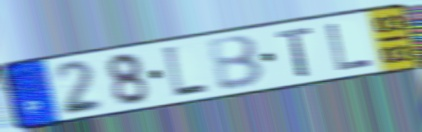2: (52, 59, 106, 118)
8: (107, 51, 151, 107)
B: (205, 33, 268, 93)
L: (160, 44, 211, 101), (324, 21, 376, 73)
T: (274, 24, 316, 79)
